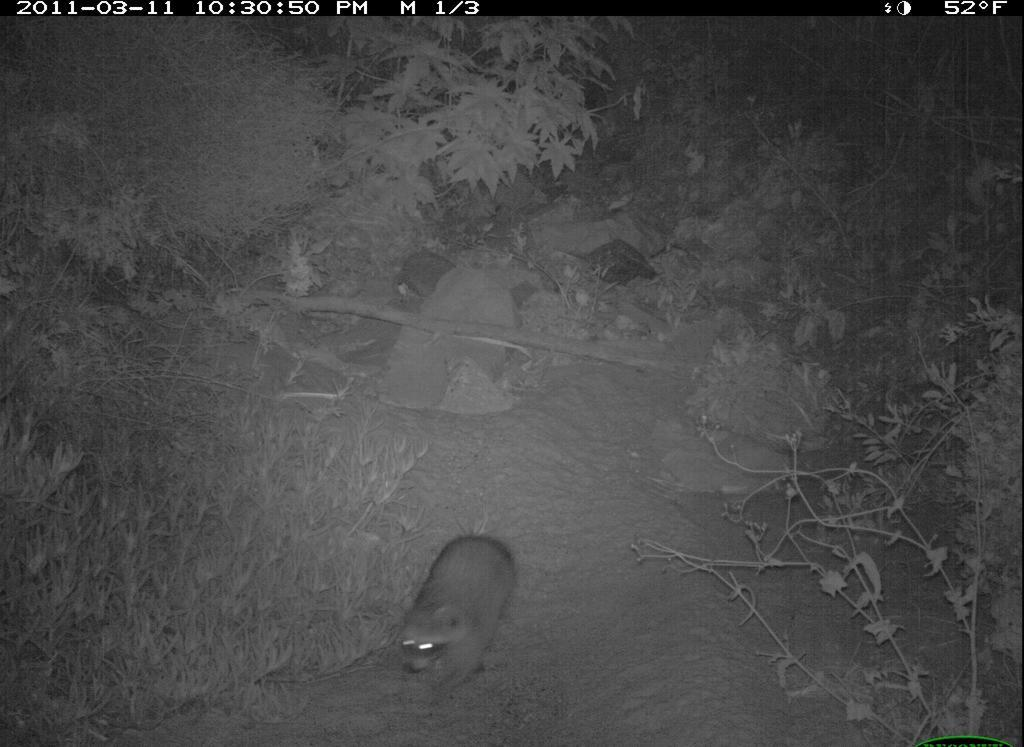raccoon: (386, 525, 523, 702)
